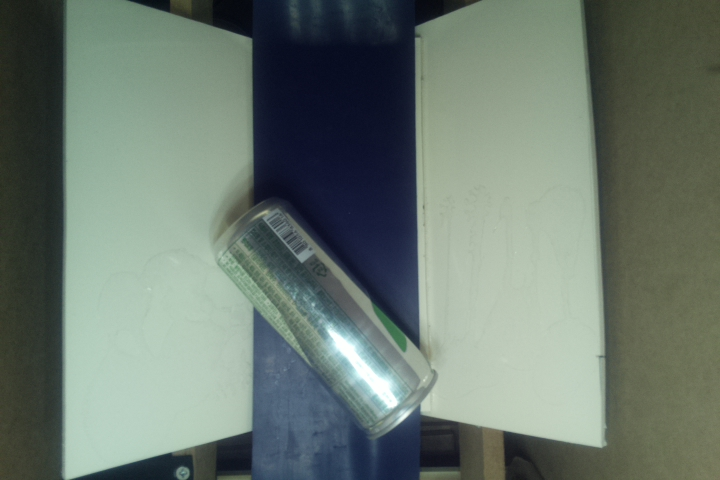can: (211, 199, 441, 439)
